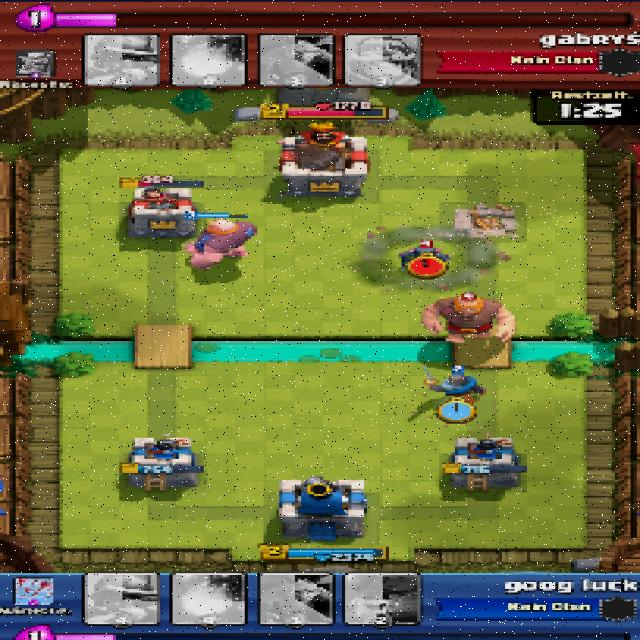Enemy-Giant: (422, 294, 516, 344)
Enemy-MiniPEKKA: (397, 244, 450, 269)
Player-Giant: (186, 217, 260, 268)
Player-Knight: (423, 373, 489, 399)
